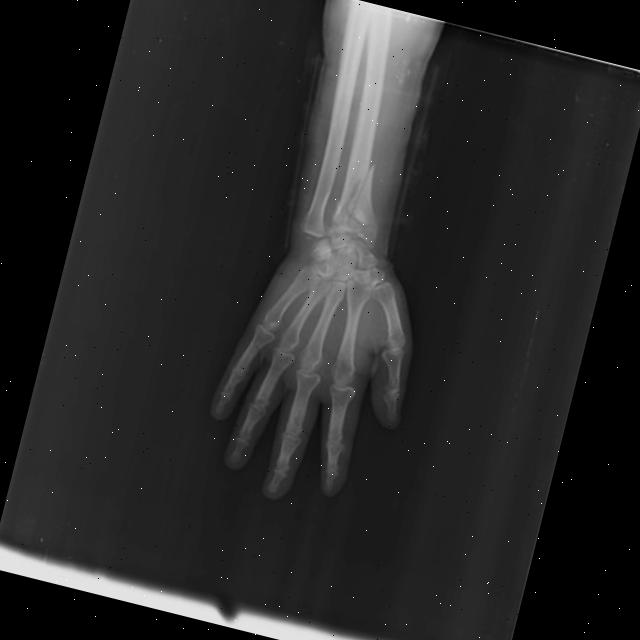Fracture: (329, 163, 380, 238)
